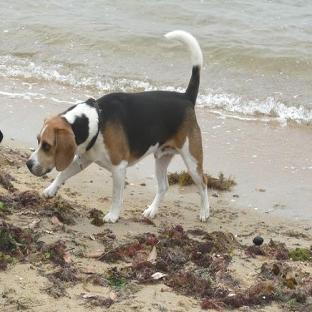Animal: (26, 30, 209, 222)
